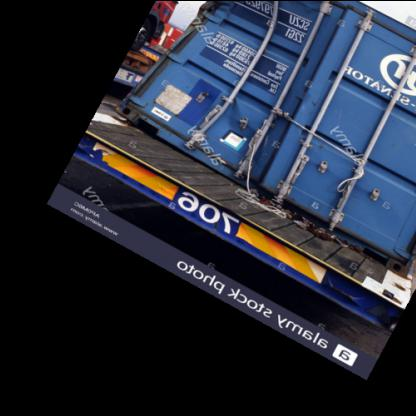Damage: (192, 1, 298, 176)
